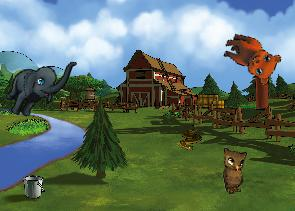bear: (216, 30, 284, 87)
elephant: (1, 44, 77, 128)
owl: (218, 144, 254, 195)
